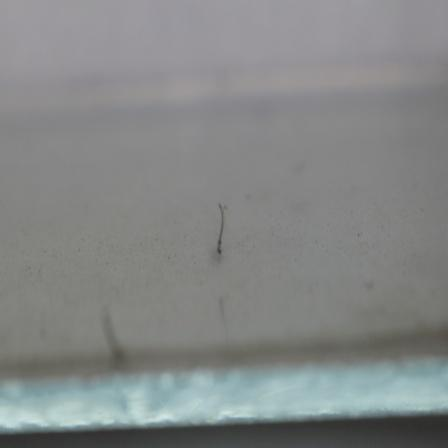Jentik-Nyamuk: (213, 197, 230, 257)
